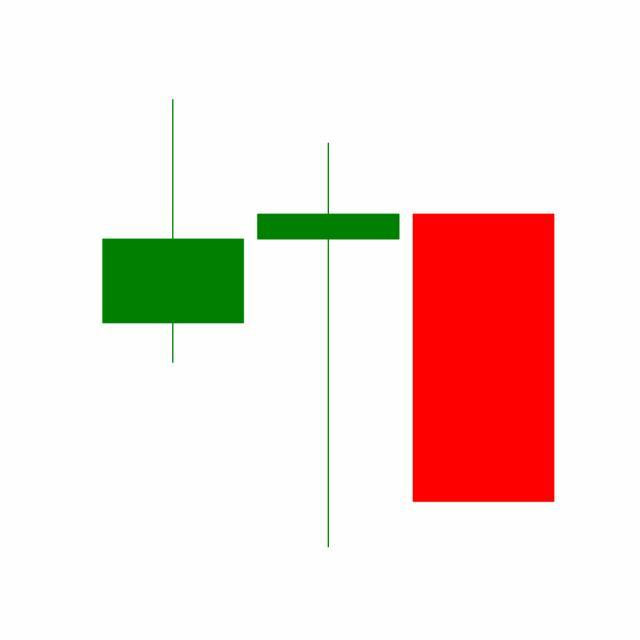Marubozu: (406, 212, 562, 506)
